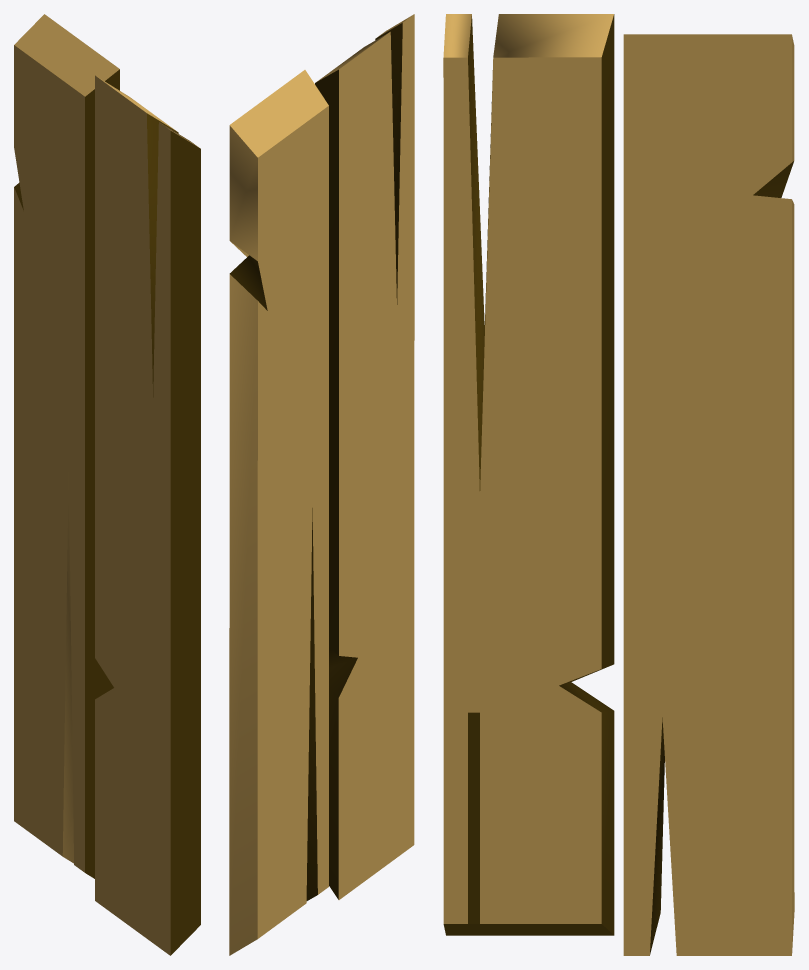
The model's file is shackside4.fbx.
The picture shows the model from 3 angles, left to right: view 1: azimuth 30°, elevation 25°; view 2: azimuth 150°, elevation 25°; view 3: azimuth 270°, elevation 25°; orthographic projection. The views are drawn at different scales.
Parts seen in each view (by area): view 1: shackside4; view 2: shackside4; view 3: shackside4.
Boxes of the visible parts, x1,y1,x2,y2 form: shackside4: (14, 14, 200, 955); shackside4: (229, 14, 414, 955); shackside4: (443, 14, 794, 955).
Size of the model in its own units: 1.77 by 47.22 by 16.22.
